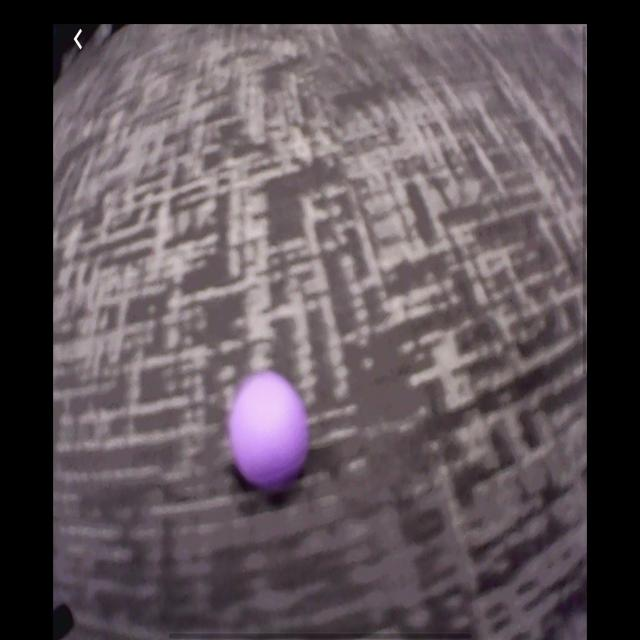ball: (231, 374, 310, 483)
